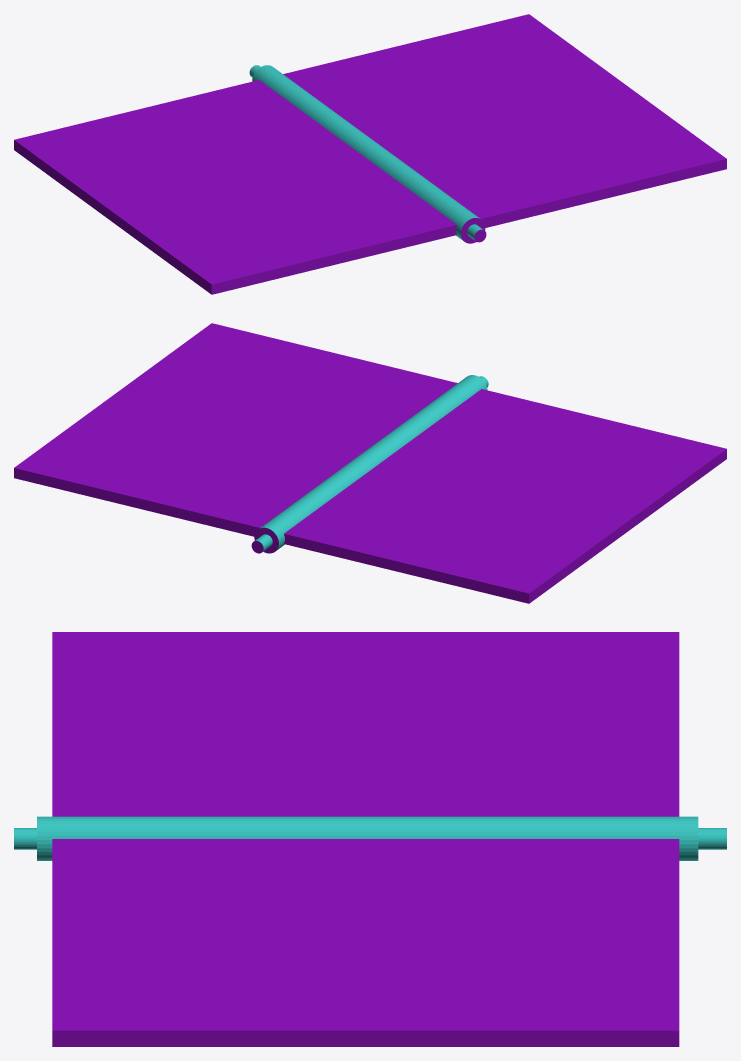
Rendered from balancer.fbx.
The picture shows the model from 3 angles, top to bottom: view 1: azimuth 30°, elevation 25°; view 2: azimuth 150°, elevation 25°; view 3: azimuth 270°, elevation 25°; orthographic projection. The views are drawn at different scales.
Visible parts, largest first — view 1: Cube, Cylinder; view 2: Cube, Cylinder; view 3: Cube, Cylinder.
Boxes of the visible parts, x1,y1,x2,y2 form: Cube: (14, 14, 726, 294); Cylinder: (249, 65, 486, 243); Cube: (14, 323, 726, 603); Cylinder: (251, 375, 488, 553); Cube: (52, 632, 679, 1046); Cylinder: (14, 816, 726, 860).
Size of the model in its own units: 301 by 14.02 by 227.
